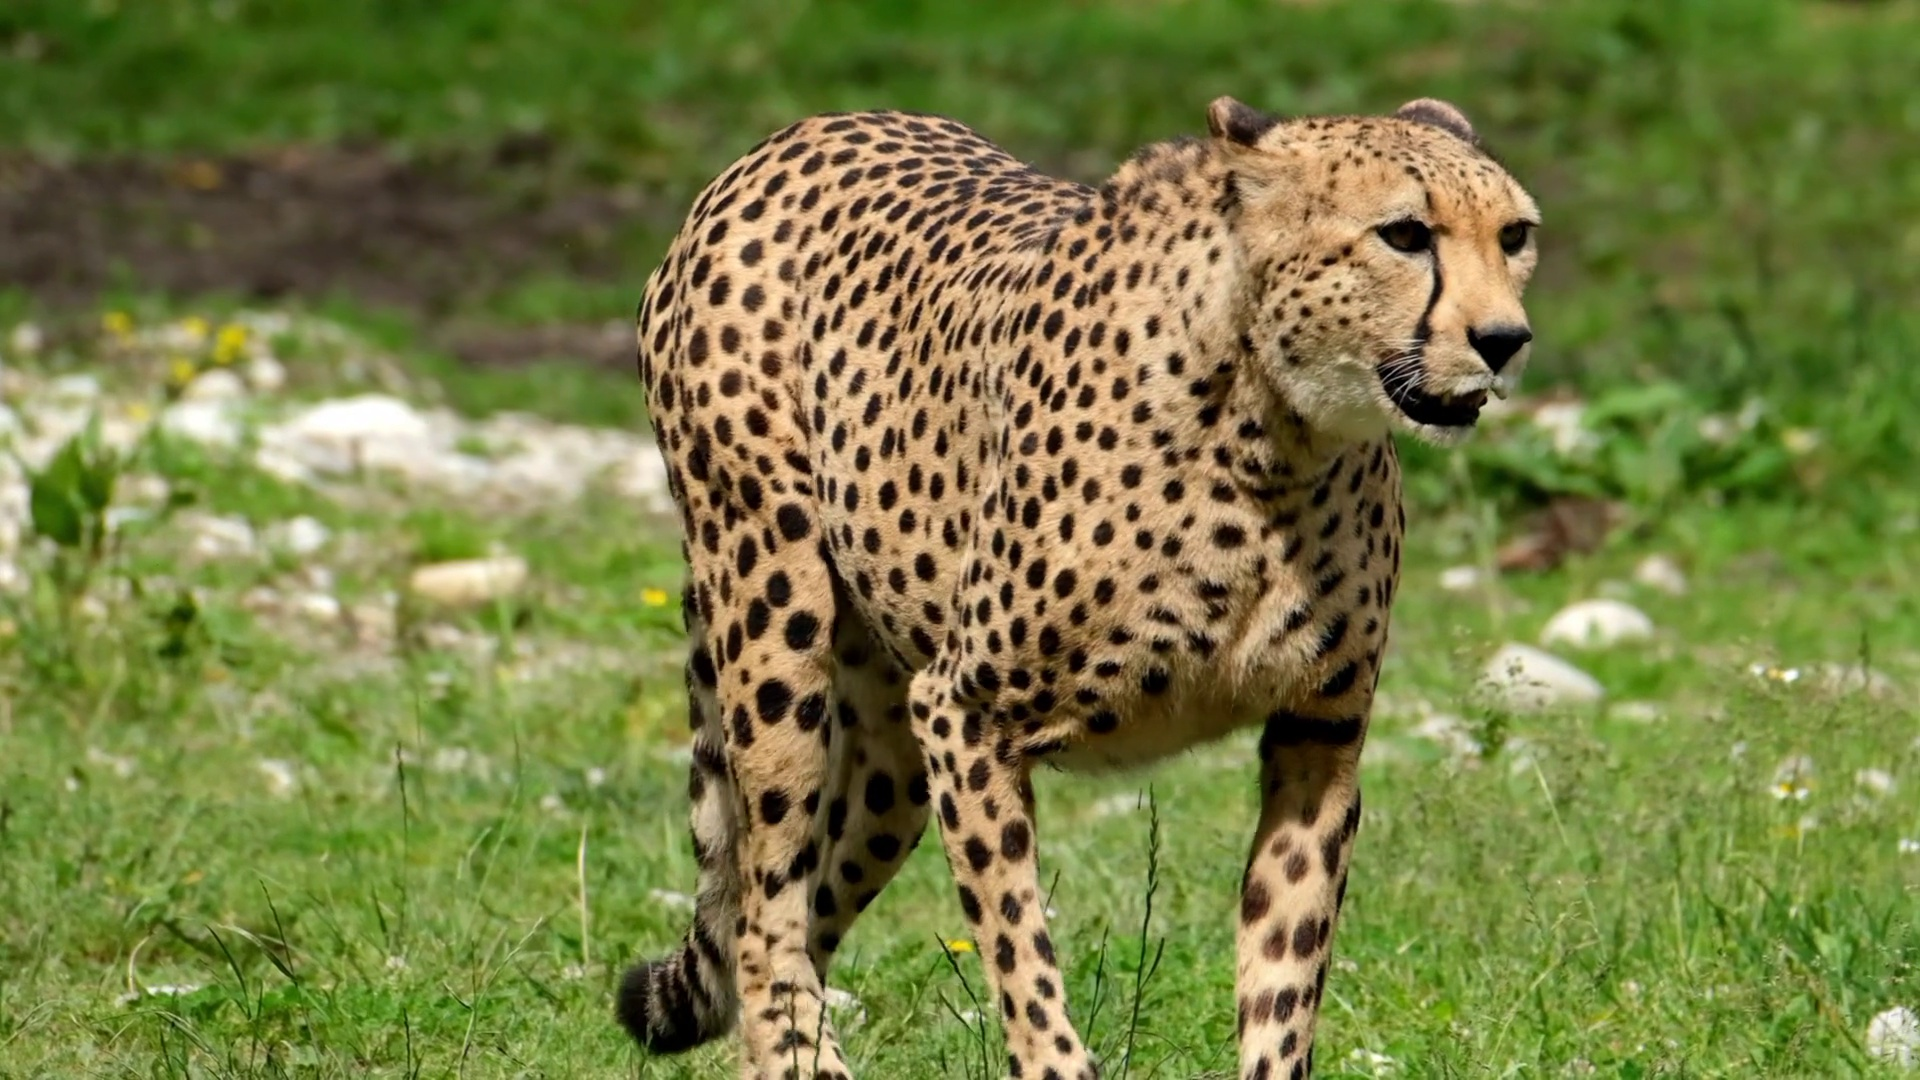Cheetah: (616, 92, 1545, 1080)
